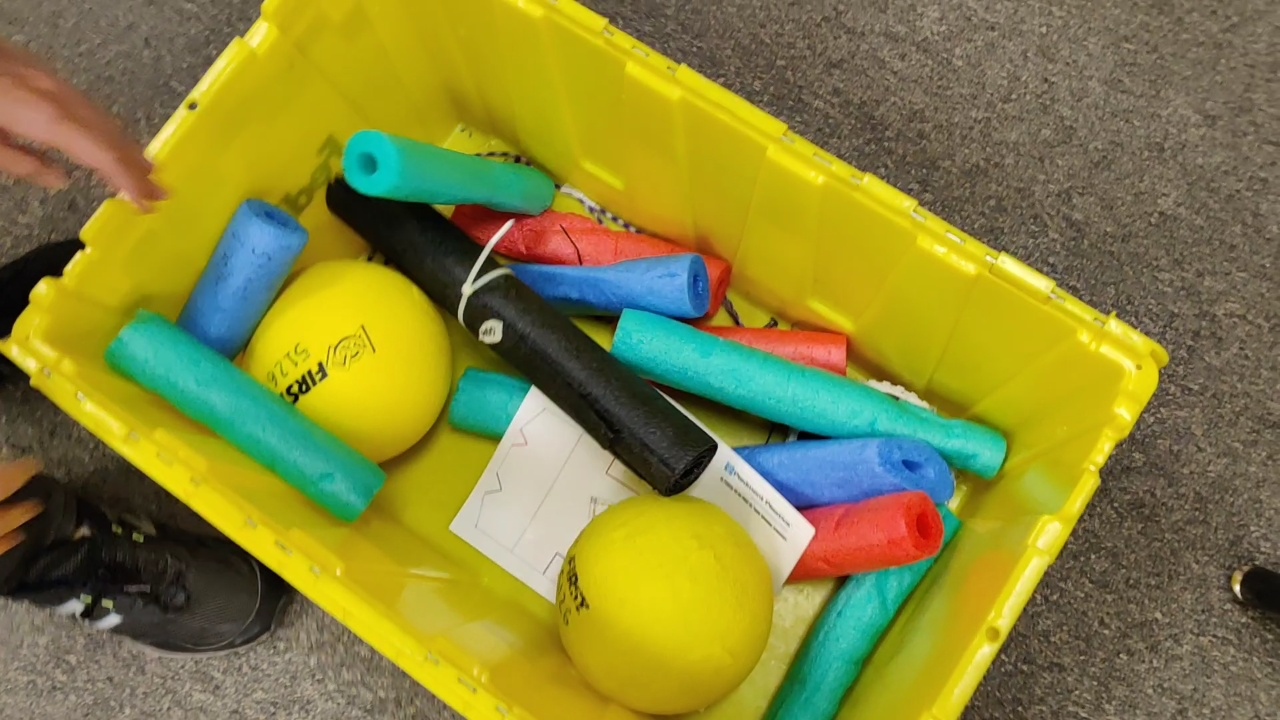Ball: (554, 488, 777, 720), (242, 259, 448, 465)
